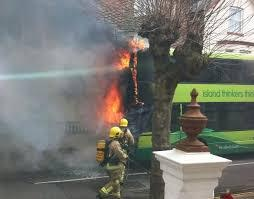fire: (100, 37, 141, 127)
